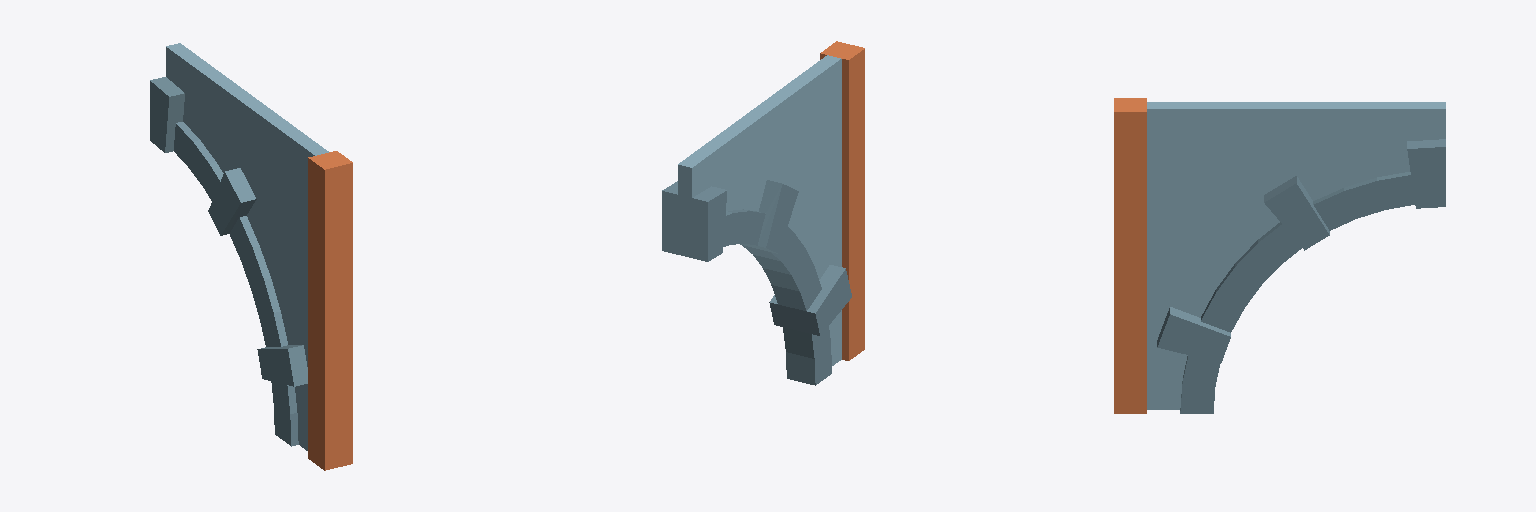
The model's file is wallArchTopDetail.obj.
The picture shows the model from 3 angles: view 1: azimuth 30°, elevation 25°; view 2: azimuth 150°, elevation 25°; view 3: azimuth 270°, elevation 25°; orthographic projection.
Parts seen in each view (by area): view 1: wallArchTopDetail; view 2: wallArchTopDetail; view 3: wallArchTopDetail.
Part boxes in pixels (x1,y1,x2,y2): wallArchTopDetail: (150, 43, 352, 470); wallArchTopDetail: (662, 41, 864, 385); wallArchTopDetail: (1114, 98, 1445, 413).
Size of the model in its own units: 0.16 by 1 by 1.